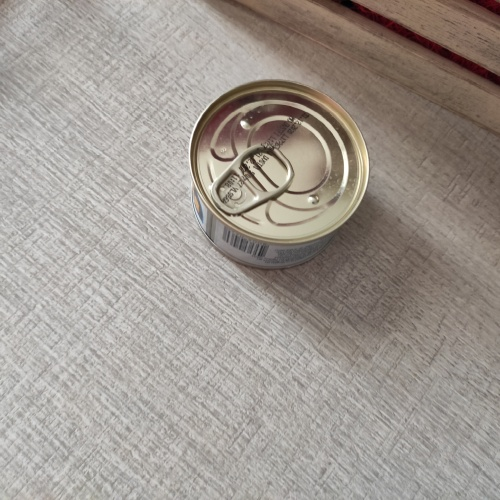tonno: (177, 72, 378, 280)
